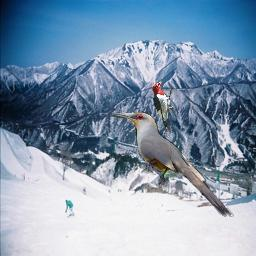Cuckoo: (111, 111, 234, 220)
Woodpecker: (152, 79, 174, 132)
